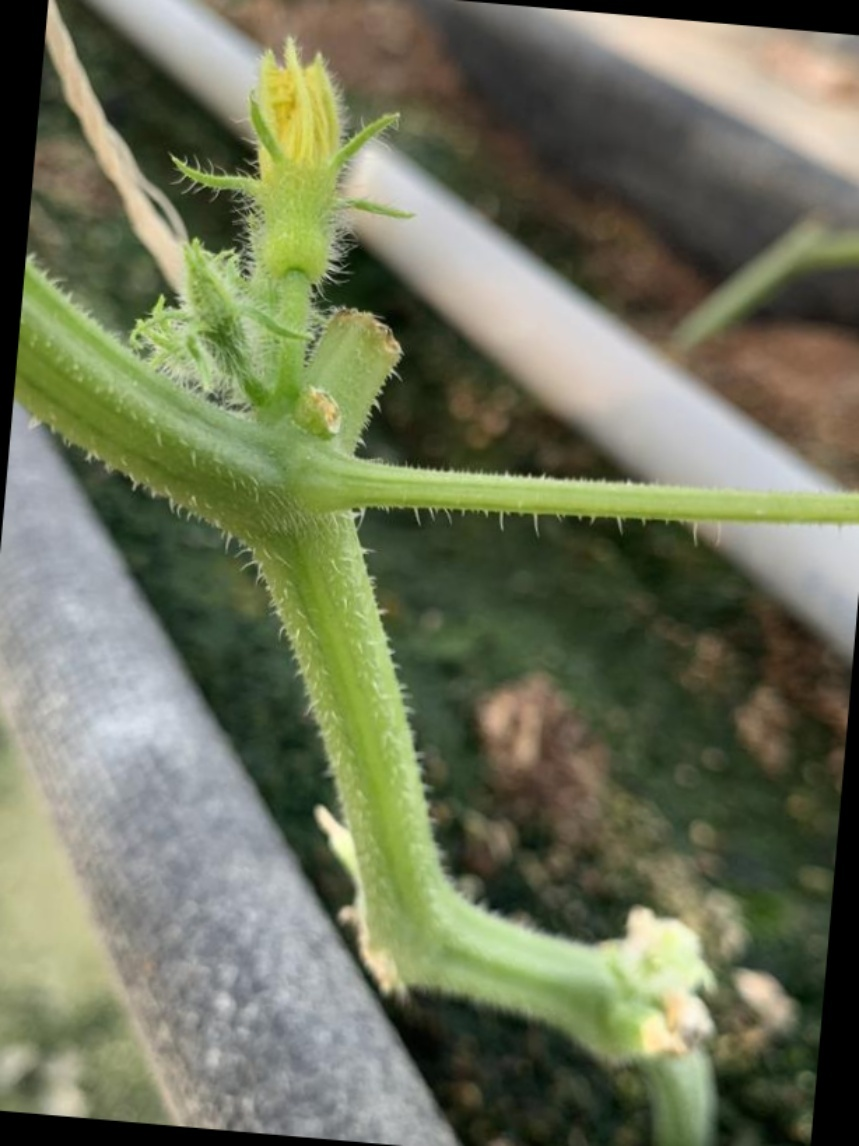bud: (207, 31, 400, 295)
